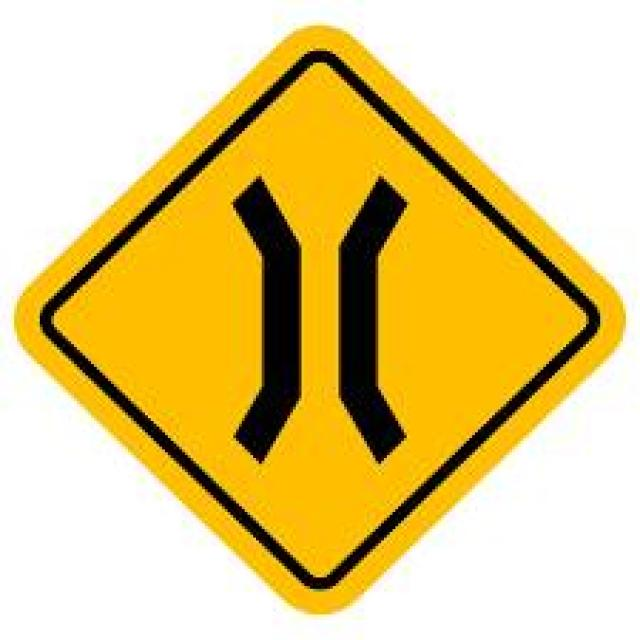Narrow_Bridge: (13, 19, 633, 618)
